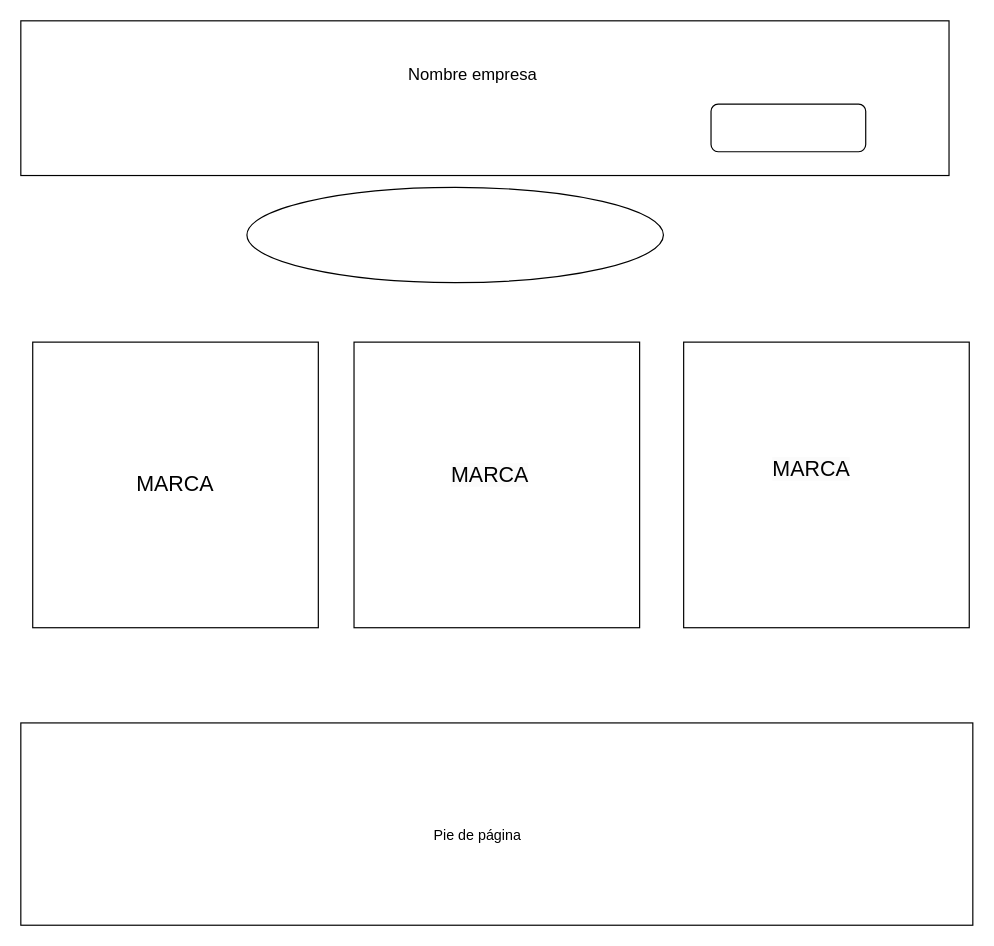
The diagram is 994 pixels wide and 946 high, and some of its shapes have lost their labels. Each missing label, with the centre of its shape:
Buscar....: point (454, 234)
Login/registro empresas: point (788, 127)
